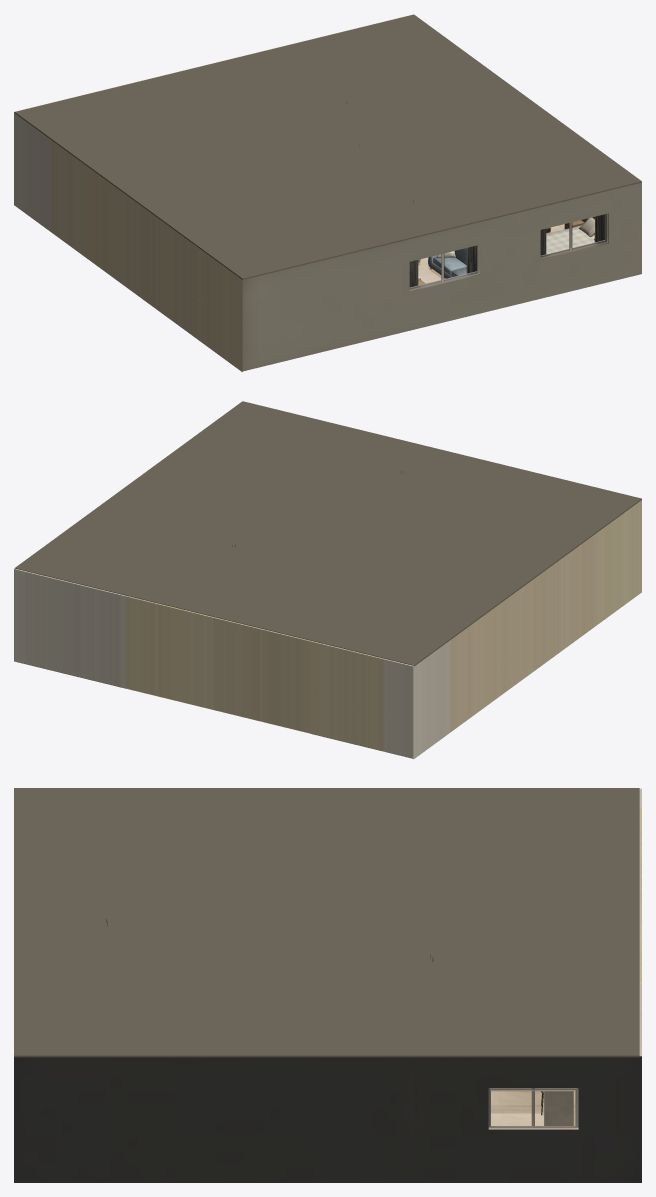
File: ThreeBedApartment.glb
3 views of the same model, one above another, from view 1: azimuth 30°, elevation 25°; view 2: azimuth 150°, elevation 25°; view 3: azimuth 270°, elevation 25° (orthographic). The views are drawn at different scales.
Visible parts, largest first — view 1: ThreeBedInterior; view 2: ThreeBedInterior; view 3: ThreeBedInterior.
Part boxes in pixels (x1,y1,x2,y2): ThreeBedInterior: [14, 14, 641, 371]; ThreeBedInterior: [14, 401, 641, 759]; ThreeBedInterior: [14, 788, 641, 1182].
Size of the model in its own units: 25.36 by 5.87 by 25.16.
Materials: 1 (1 with a texture image).
